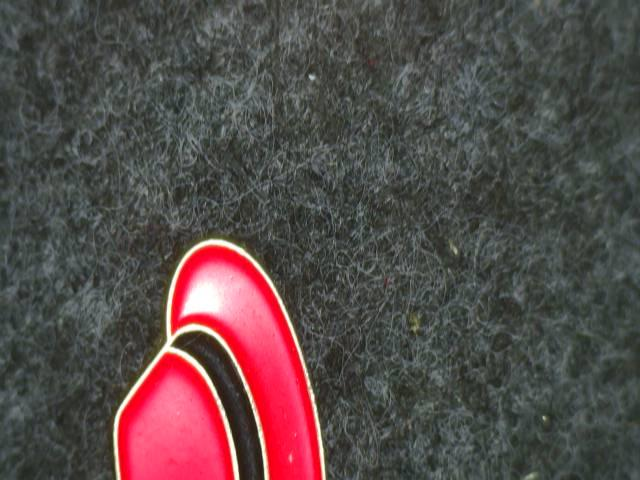Red-Hat: (95, 221, 347, 480)
